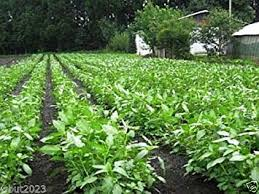jute: (3, 56, 253, 175)
